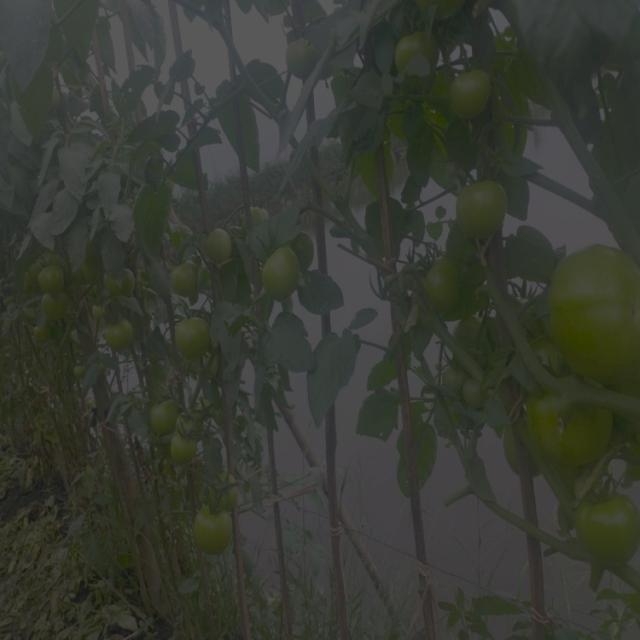tomato: (542, 242, 640, 382), (532, 394, 615, 464), (583, 488, 640, 558), (450, 171, 509, 238), (255, 246, 303, 305), (445, 67, 495, 120), (169, 307, 213, 362), (419, 258, 458, 315), (192, 505, 229, 556), (394, 26, 439, 61), (165, 252, 201, 291), (35, 288, 69, 326), (105, 316, 135, 358), (150, 398, 177, 436), (172, 430, 199, 466), (209, 222, 234, 259), (33, 264, 66, 292), (283, 39, 315, 67), (458, 374, 489, 402), (114, 268, 140, 298), (245, 203, 274, 229)
